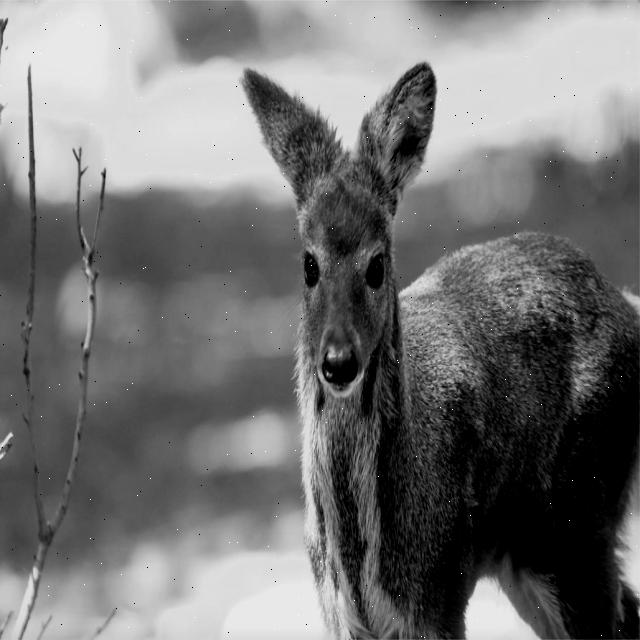deer: (240, 35, 459, 440)
